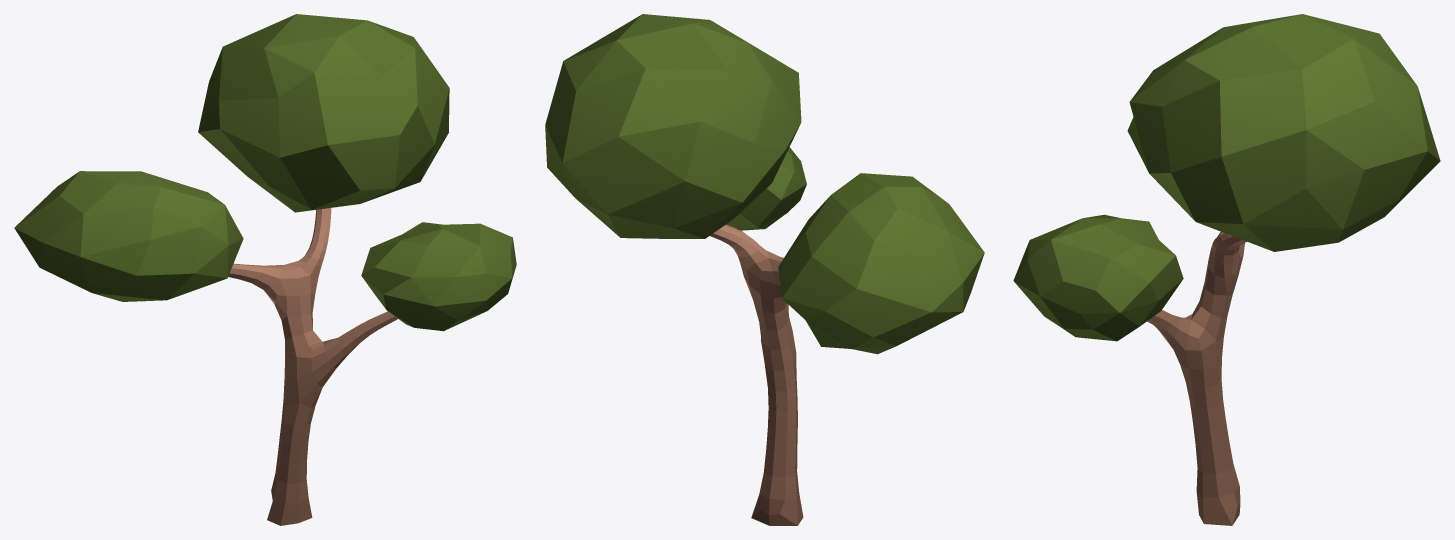
Rendered from tree3.fbx.
3 renders of one model, left to right at view 1: azimuth 30°, elevation 25°; view 2: azimuth 150°, elevation 25°; view 3: azimuth 270°, elevation 25°, orthographic. The views are drawn at different scales.
Visible parts, largest first — view 1: Cube.003; view 2: Cube.003; view 3: Cube.003.
Boxes of the visible parts, box(x1,y1,x2,y2) form: Cube.003: box(14, 14, 516, 525); Cube.003: box(545, 14, 984, 525); Cube.003: box(1013, 14, 1440, 525).
Size of the model in its own units: 740 by 845 by 624.
Materials: 1 (1 with a texture image).
